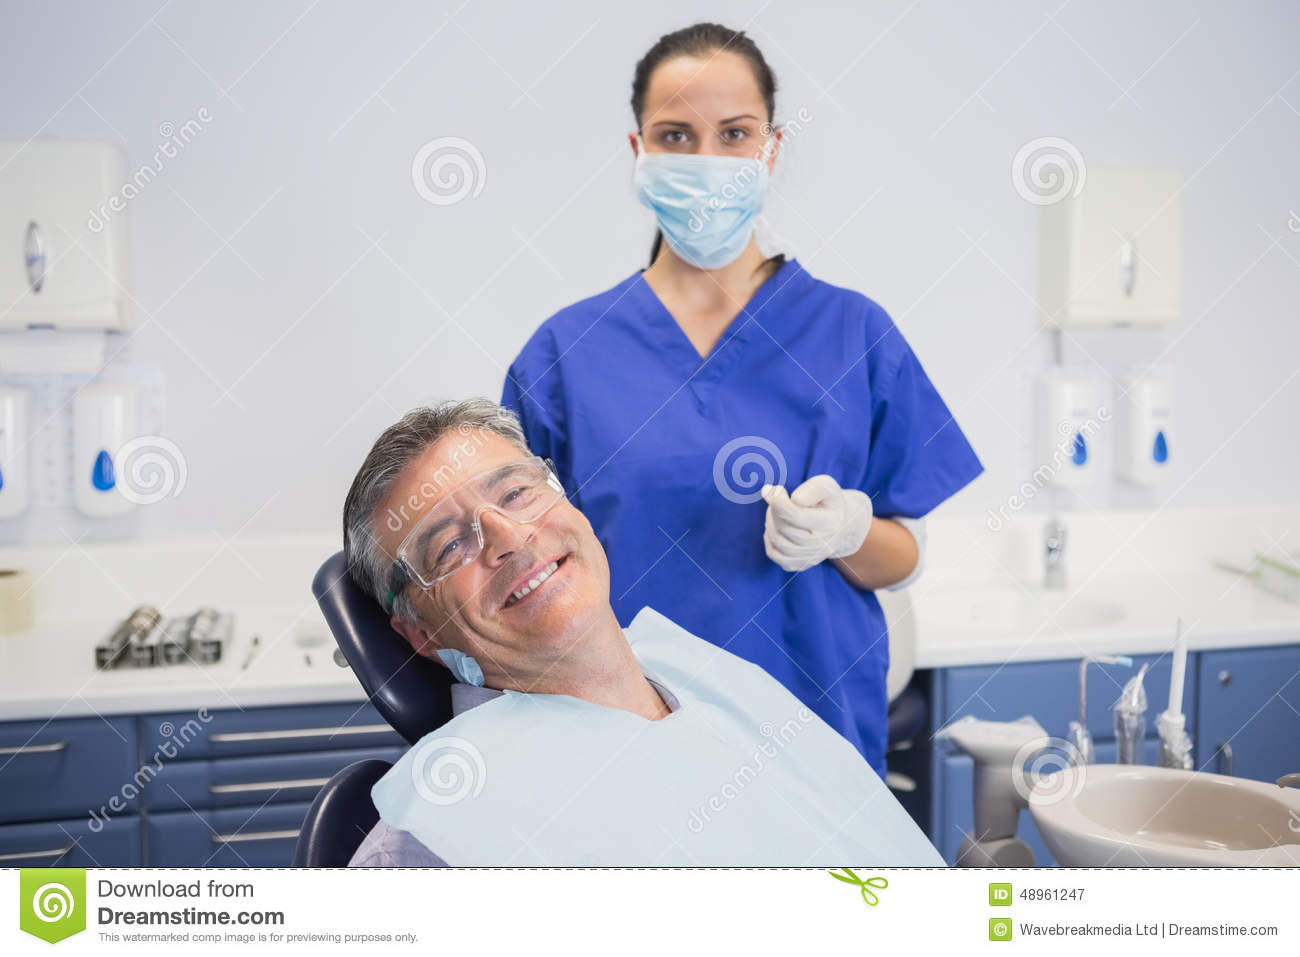mask: (639, 151, 776, 271)
